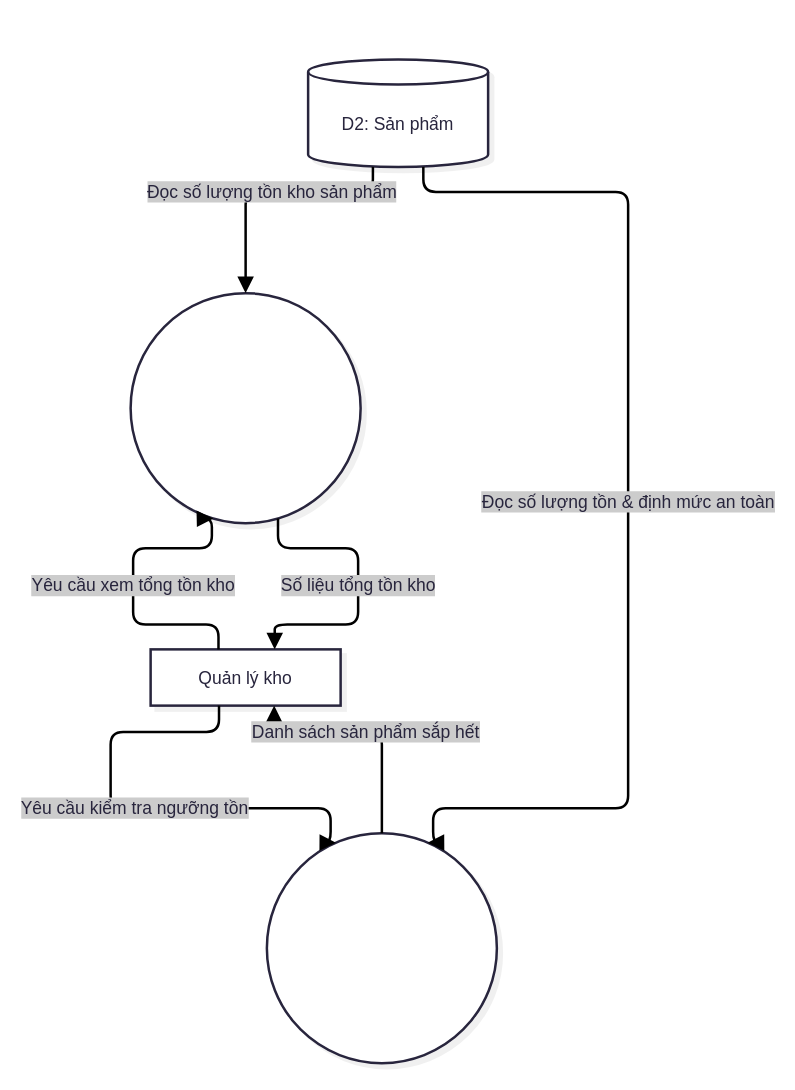
Image size: 795x1090. Some labels were removed from this diagram. Here are the shapes that lost their labels. From the top down, the centre of each, then its label:
At point 247,410: "1.1.1 Xem tổng sản phẩm tồn".
At point 383,950: "1.1.2 Cảnh báo sắp hết hàng".
